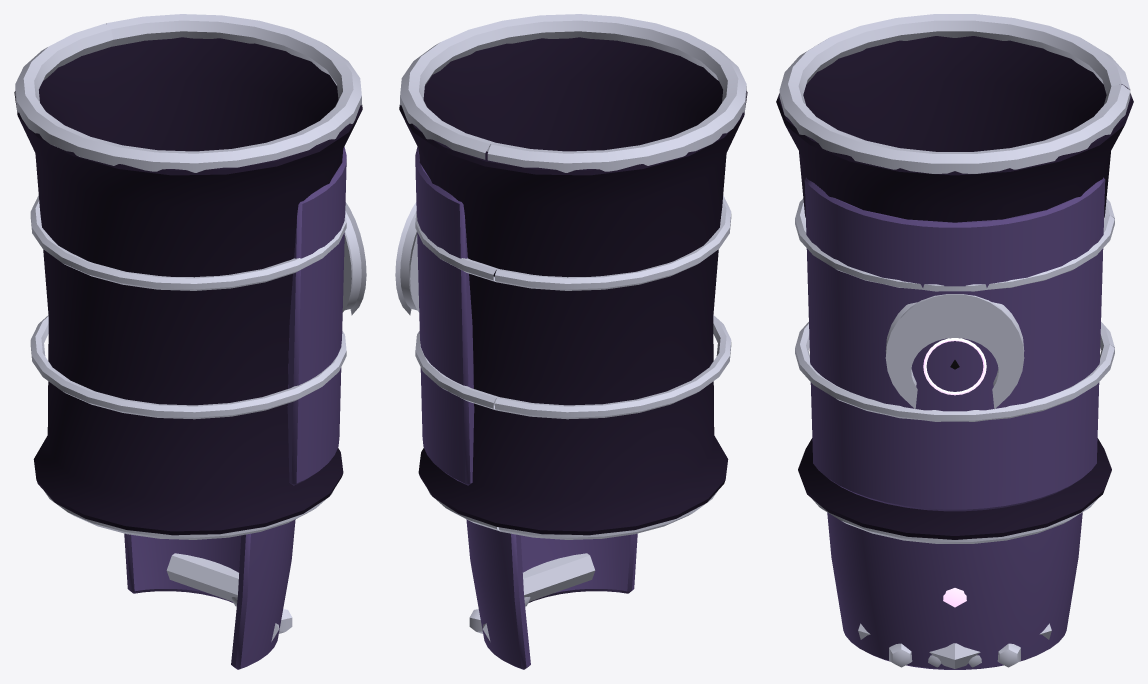
Rendered from boss_eclipse_dancer_gloves_1.glb.
3 renders of one model, left to right at view 1: azimuth 30°, elevation 25°; view 2: azimuth 150°, elevation 25°; view 3: azimuth 270°, elevation 25°, orthographic.
Visible parts, largest first — view 1: boss_eclipse_dancer_gloves_1, AT_hand_L; view 2: boss_eclipse_dancer_gloves_1, AT_hand_L; view 3: boss_eclipse_dancer_gloves_1, AT_hand_L.
Boxes of the visible parts, x1,y1,x2,y2 form: boss_eclipse_dancer_gloves_1: [14, 14, 366, 539]; AT_hand_L: [124, 519, 295, 669]; boss_eclipse_dancer_gloves_1: [395, 14, 747, 539]; AT_hand_L: [466, 519, 637, 669]; boss_eclipse_dancer_gloves_1: [776, 14, 1133, 543]; AT_hand_L: [827, 512, 1082, 669].
Bounding box in the file's own units: 0.1971 × 0.3408 × 0.2004.
